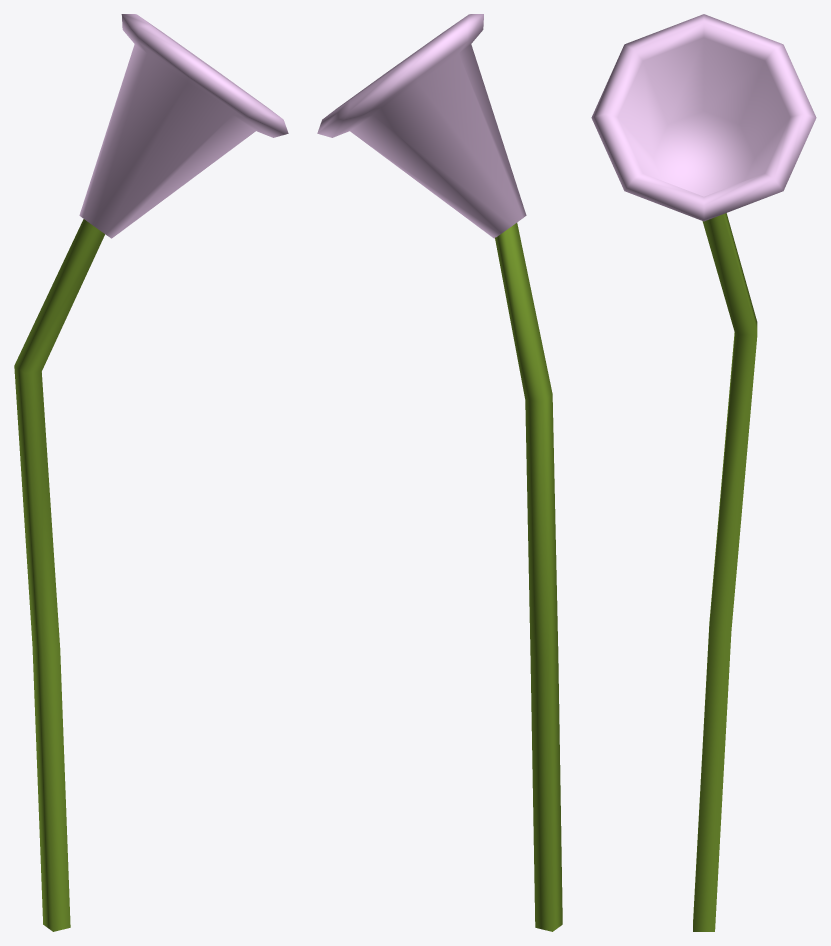
Rendered from Flower_30.fbx.
The picture shows the model from 3 angles, left to right: view 1: azimuth 30°, elevation 25°; view 2: azimuth 150°, elevation 25°; view 3: azimuth 270°, elevation 25°; orthographic projection. The views are drawn at different scales.
Visible parts, largest first — view 1: Flower_30; view 2: Flower_30; view 3: Flower_30.
Part boxes in pixels (x1,y1,x2,y2): Flower_30: (14,14,288,931); Flower_30: (317,14,562,931); Flower_30: (591,14,816,931).
Size of the model in its own units: 33.71 by 122 by 25.95.
